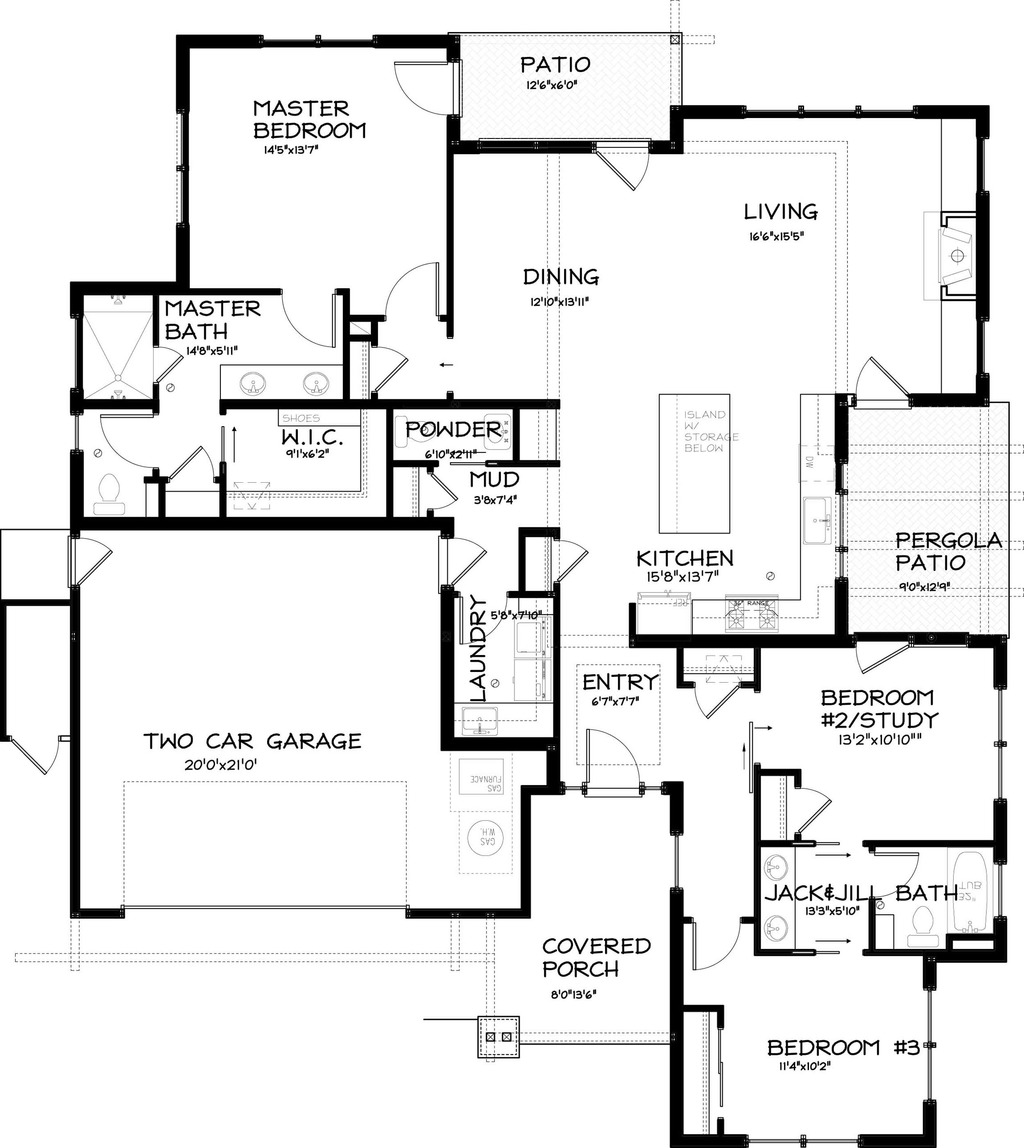door: (574, 716, 644, 800), (384, 60, 470, 121), (274, 284, 342, 353), (677, 912, 754, 972), (375, 261, 446, 325), (593, 133, 661, 197), (95, 414, 165, 474), (851, 354, 910, 416), (153, 444, 221, 497), (856, 844, 917, 902), (428, 530, 486, 589), (444, 591, 505, 647), (786, 777, 840, 840), (5, 728, 77, 775), (847, 637, 914, 684), (540, 535, 596, 589), (416, 465, 467, 519), (358, 337, 410, 389), (688, 675, 739, 726), (67, 537, 114, 586), (151, 346, 193, 388)
kitchen_bar: (628, 372, 753, 553)
large_sink: (89, 470, 135, 519), (902, 904, 942, 947)
sink: (793, 481, 851, 563)
small_sink: (217, 358, 346, 400), (761, 846, 800, 947)
tub: (942, 846, 996, 935)
